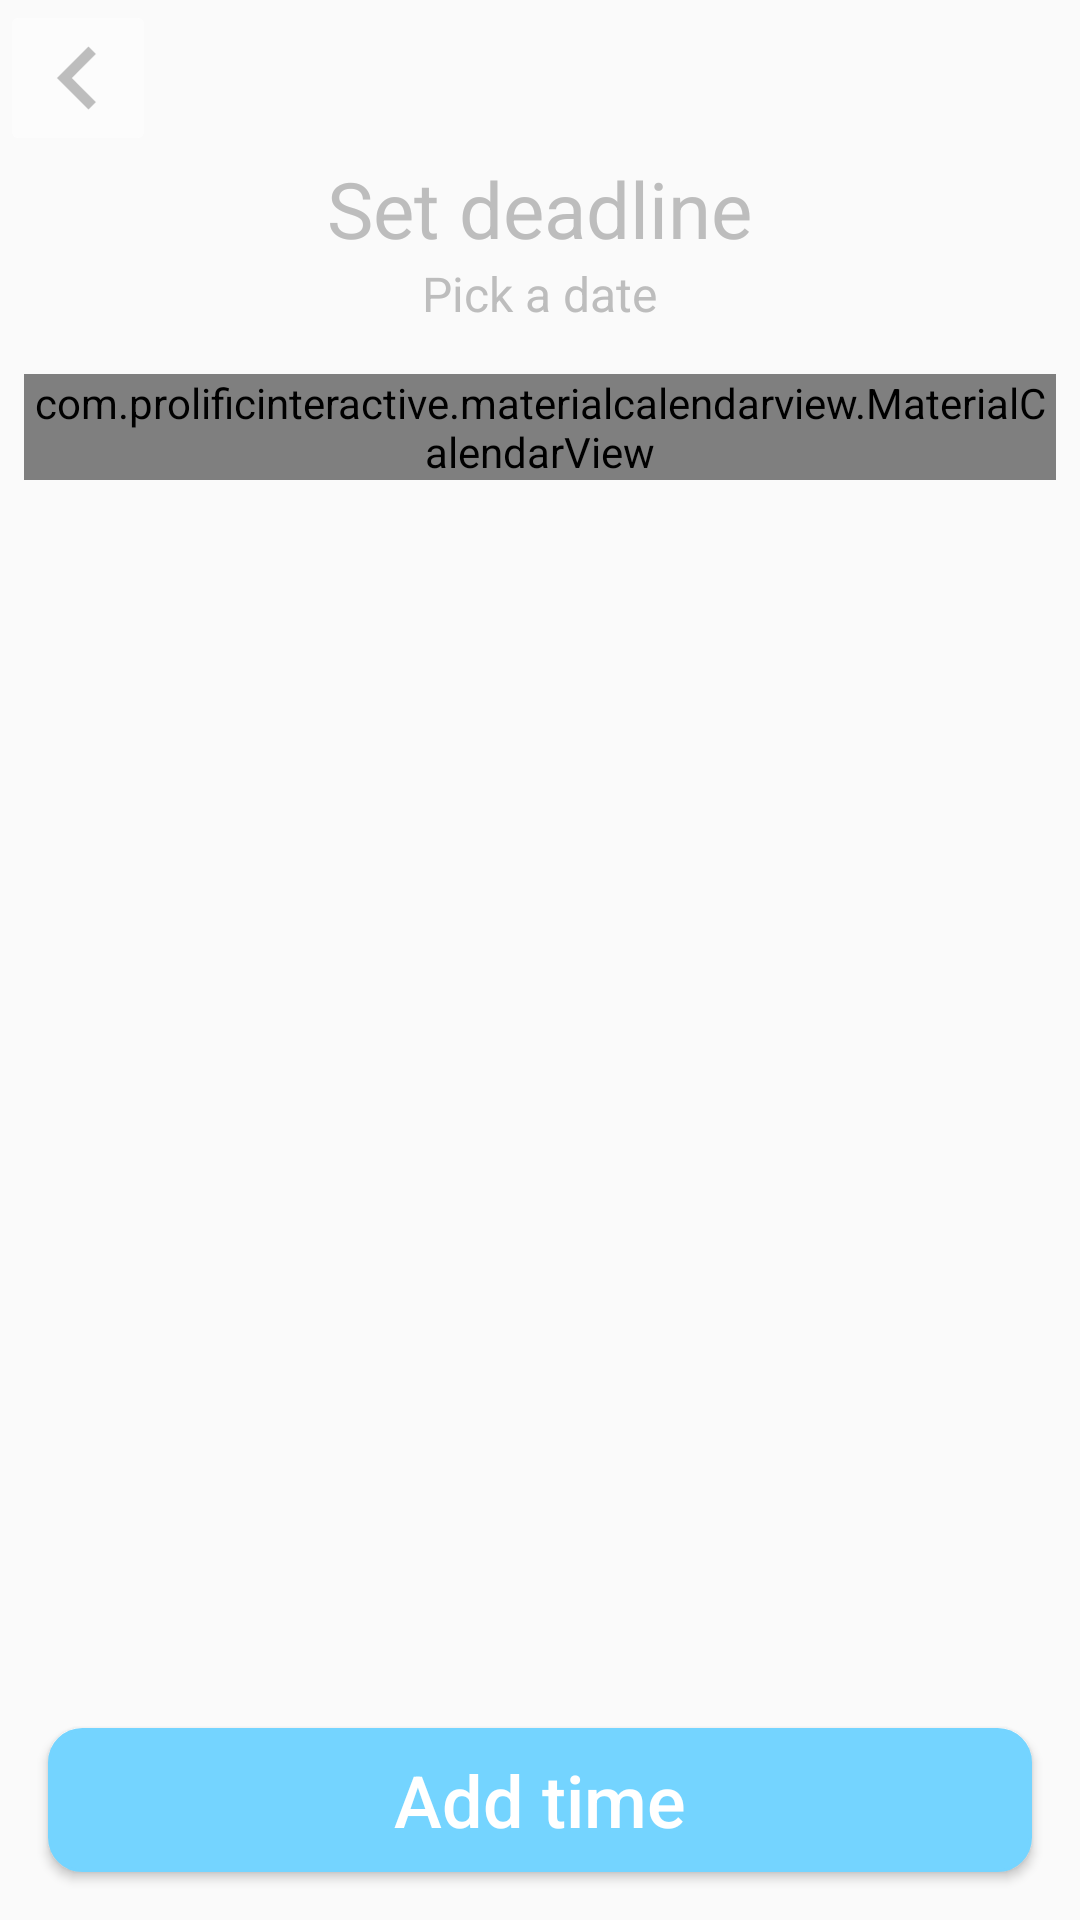

Locate icon controls on the screen. Image size 1080 × 1920, boxes as (x1, y1, x2, y2).
back: (57, 47, 96, 109)
